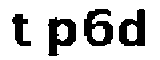6: (80, 6, 116, 48)
d: (117, 10, 148, 50)
p: (43, 18, 78, 60)
t: (10, 12, 34, 49)
